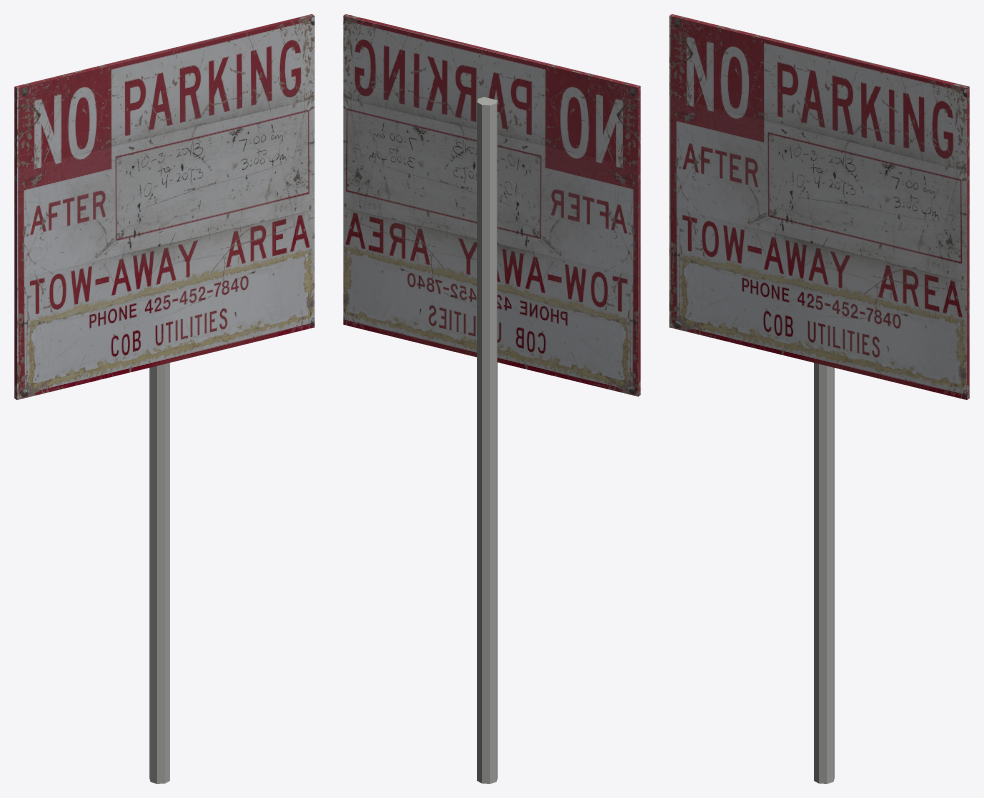
Rendered from trafficsign1.fbx.
The picture shows the model from 3 angles, left to right: view 1: azimuth 30°, elevation 25°; view 2: azimuth 150°, elevation 25°; view 3: azimuth 330°, elevation 25°; orthographic projection.
Parts seen in each view (by area): view 1: sign; view 2: sign; view 3: sign.
Boxes of the visible parts, box(x1,y1,x2,y2) form: sign: box(14, 14, 314, 783); sign: box(343, 14, 640, 783); sign: box(669, 14, 969, 783).
Size of the model in its own units: 200 by 470 by 13.24.
Materials: 2 (1 with a texture image).
